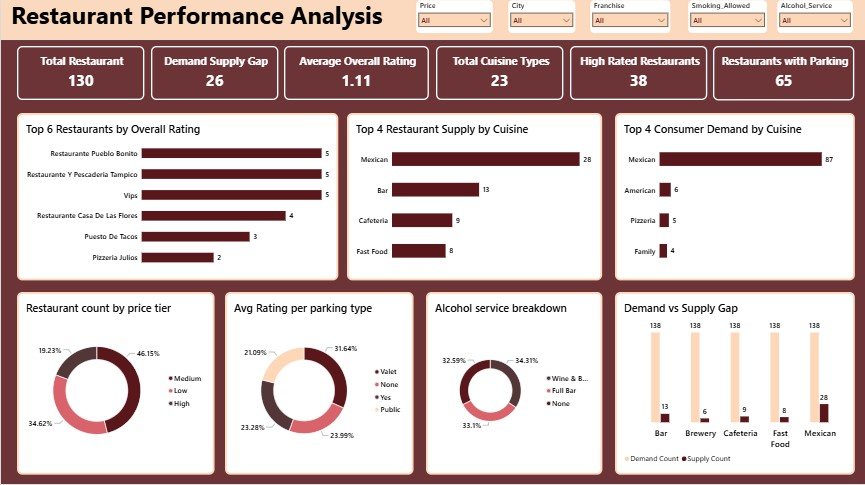

Layout of this report page (visuals, bound fields, positions):
{"tool":"powerbi","page":{"name":"Page 2","canvas":[1920,1080],"ordinal":1},"visuals":[{"type":"card","title":"Total Restaurant","fields":{"Values":["CountNonNull(restaurants.Restaurant_ID)"]},"box":[36.6,107.3,282.9,119.5],"z":0},{"type":"card","title":"Demand Supply Gap","fields":{"Values":["Consumers.Demand Supply Gap"]},"box":[334.1,107.3,282.9,119.5],"z":1000},{"type":"card","title":"Average Overall Rating ","fields":{"Values":["ratings.Average Rating"]},"box":[629.3,107.3,322,119.5],"z":2000},{"type":"card","title":"Total Cuisine Types","fields":{"Values":["restaurants.Total Cuisine Types"]},"box":[965.9,107.3,282.9,119.5],"z":3000},{"type":"card","title":"High Rated Restaurants","fields":{"Values":["restaurants.High Rated Restaurants"]},"box":[1263.4,107.3,304.9,119.5],"z":4000},{"type":"card","title":"Restaurants with Parking","fields":{"Values":["restaurants.Restaurants With Parking"]},"box":[1583.1,106.3,314.5,121.4],"z":5000},{"type":"textbox","box":[22.9,0,879.2,81.2],"z":6000},{"type":"slicer","fields":{"Values":["Consumers.City"]},"box":[1122,0,158.5,82.9],"z":7000},{"type":"slicer","fields":{"Values":["restaurants.Price"]},"box":[917.1,0,179.7,83.1],"z":8000},{"type":"slicer","fields":{"Values":["restaurants.Smoking_Allowed"]},"box":[1522,0,185.4,82.9],"z":9000},{"type":"slicer","fields":{"Values":["restaurants.Franchise"]},"box":[1304.9,0,187.8,82.9],"z":10000},{"type":"slicer","fields":{"Values":["restaurants.Alcohol_Service"]},"box":[1719.5,0,178,82.9],"z":11000},{"type":"clusteredBarChart","title":"Top 4 Consumer Demand by Cuisine","fields":{"Y":["consumer_preferences.Demand Count"],"Category":["consumer_preferences.Preferred_Cuisine"]},"box":[1363.9,255.6,533.3,372.2],"z":12000},{"type":"clusteredBarChart","title":"Top 4 Restaurant Supply by Cuisine","fields":{"Y":["consumer_preferences.Supply Count"],"Category":["restaurant cuisine.Cuisine"]},"box":[769.4,255.6,566.7,372.2],"z":13000},{"type":"clusteredColumnChart","title":"Demand vs Supply Gap","fields":{"Category":["restaurant cuisine.Cuisine"],"Y":["consumer_preferences.Demand Count","consumer_preferences.Supply Count"]},"box":[1363.9,652.8,533.3,405.6],"z":14000},{"type":"donutChart","title":"Restaurant count by price tier","fields":{"Category":["restaurants.Price"],"Y":["CountNonNull(restaurants.Restaurant_ID)"]},"box":[36.1,652.8,438.9,405.6],"z":15000},{"type":"donutChart","title":"Alcohol service breakdown","fields":{"Category":["restaurants.Alcohol_Service"],"Y":["consumer_preferences.Avg Overall Rating"]},"box":[944.4,652.8,391.7,405.6],"z":16000},{"type":"donutChart","title":"Avg Rating per parking type","fields":{"Category":["restaurants.Parking"],"Y":["consumer_preferences.Avg Overall Rating"]},"box":[497.2,652.8,419.4,405.6],"z":17000},{"type":"clusteredBarChart","title":"Top 6 Restaurants by Overall Rating","fields":{"Category":["restaurants.Name"],"Y":["Sum(ratings.Overall_Rating)"]},"box":[36.1,255.6,713.9,372.2],"z":18000}]}

Visuals, with their boxes in screenshot pixels (x1, y1, x2, y2), scaled from the page's 1920x1080 canvas onto the 865x485 screenshot:
"Total Restaurant" card: 16,48,144,102
"Demand Supply Gap" card: 151,48,278,102
"Average Overall Rating " card: 284,48,429,102
"Total Cuisine Types" card: 435,48,563,102
"High Rated Restaurants" card: 569,48,707,102
"Restaurants with Parking" card: 713,48,855,102
textbox: 10,0,406,36
slicer - Consumers.City: 505,0,577,37
slicer - restaurants.Price: 413,0,494,37
slicer - restaurants.Smoking_Allowed: 686,0,769,37
slicer - restaurants.Franchise: 588,0,672,37
slicer - restaurants.Alcohol_Service: 775,0,855,37
"Top 4 Consumer Demand by Cuisine" clusteredBarChart: 614,115,855,282
"Top 4 Restaurant Supply by Cuisine" clusteredBarChart: 347,115,602,282
"Demand vs Supply Gap" clusteredColumnChart: 614,293,855,475
"Restaurant count by price tier" donutChart: 16,293,214,475
"Alcohol service breakdown" donutChart: 425,293,602,475
"Avg Rating per parking type" donutChart: 224,293,413,475
"Top 6 Restaurants by Overall Rating" clusteredBarChart: 16,115,338,282
